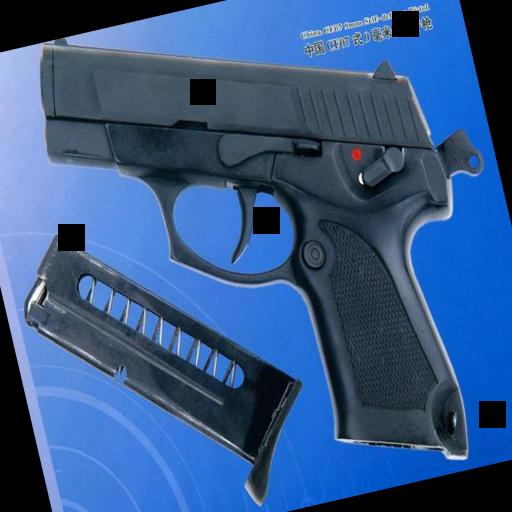Handgun: (21, 0, 512, 512)
